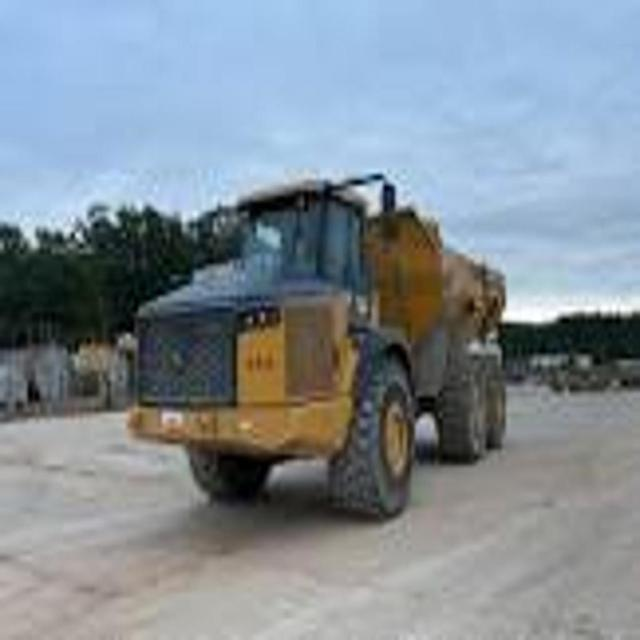dump_truck: (130, 155, 518, 539)
